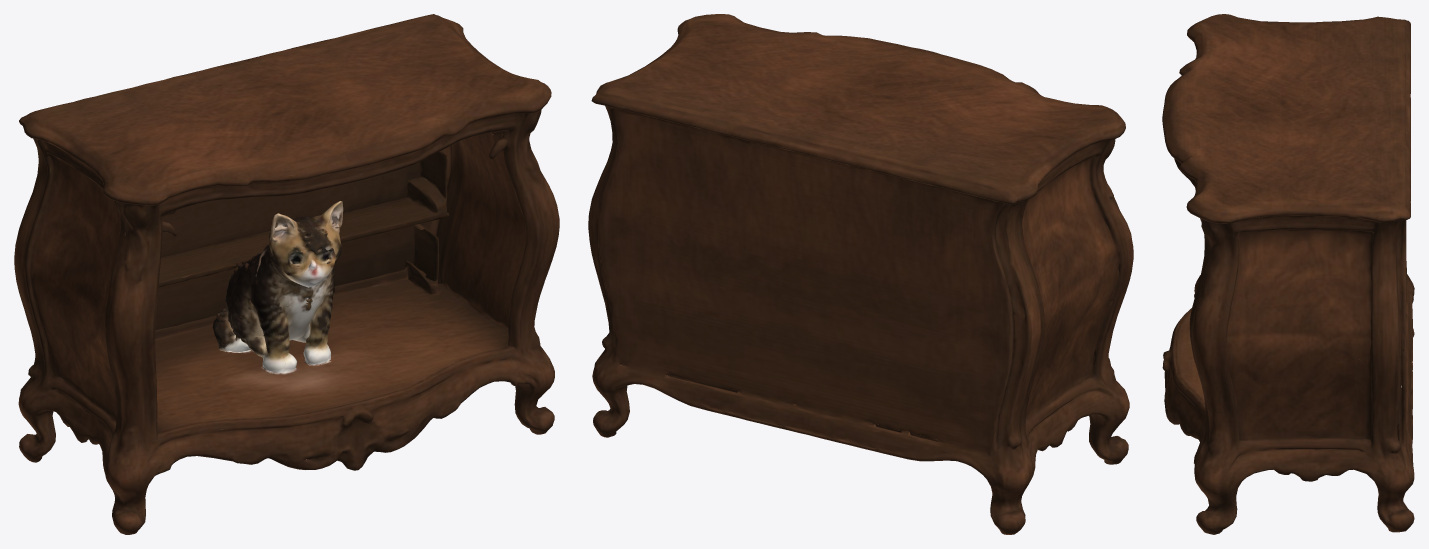
Rendered from generation_commode_2.glb.
3 views of the same model, side by side, from view 1: azimuth 30°, elevation 25°; view 2: azimuth 150°, elevation 25°; view 3: azimuth 270°, elevation 25° (orthographic). The views are drawn at different scales.
Visible parts, largest first — view 1: geometry_0; view 2: geometry_0; view 3: geometry_0.
Boxes of the visible parts, x1,y1,x2,y2 form: geometry_0: [14, 14, 559, 534]; geometry_0: [588, 14, 1133, 534]; geometry_0: [1162, 14, 1414, 534].
Size of the model in its own units: 1 by 0.7418 by 0.52.
1 material, 1 textured.
